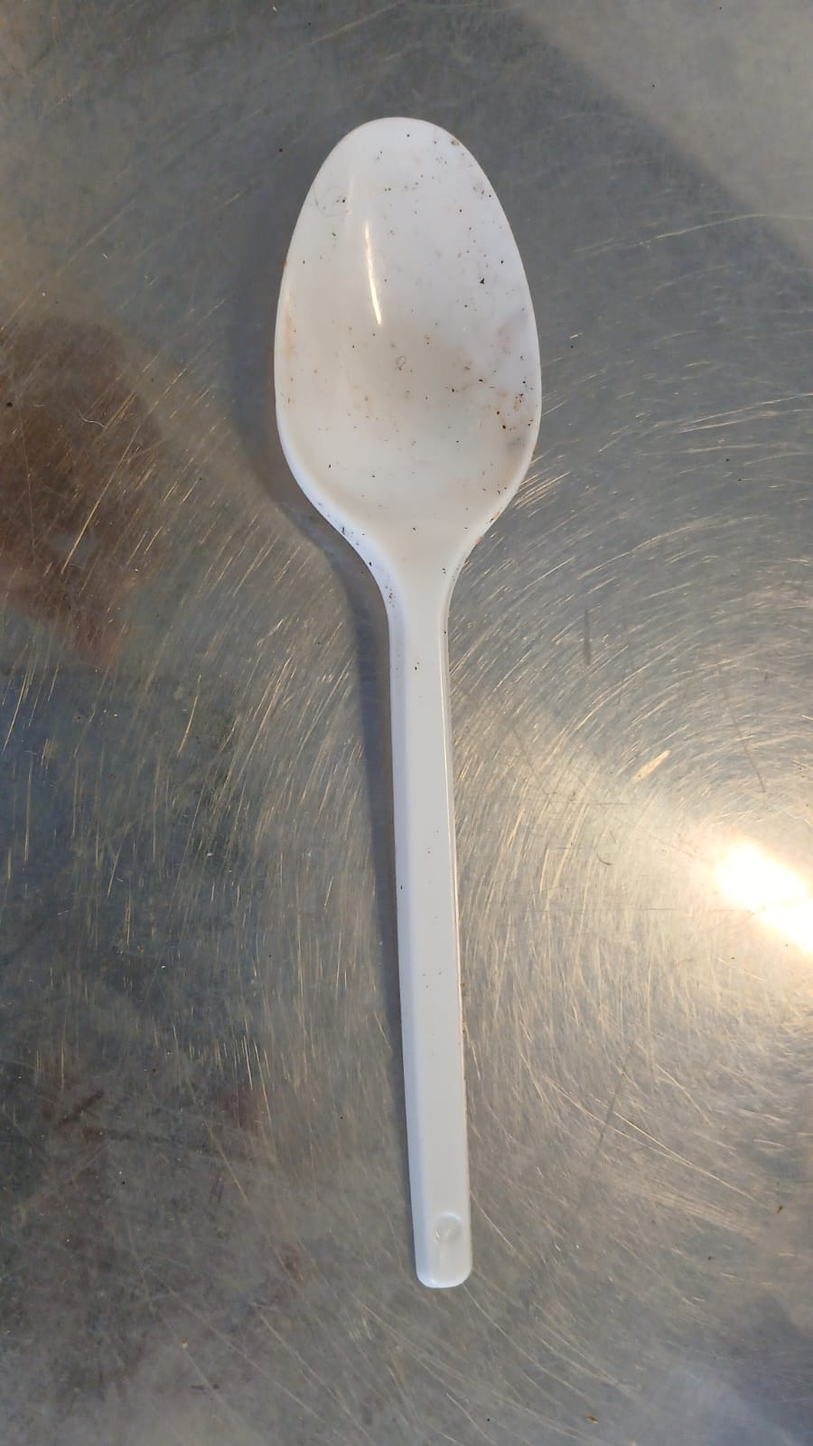Ordinario: (270, 111, 544, 1291)
